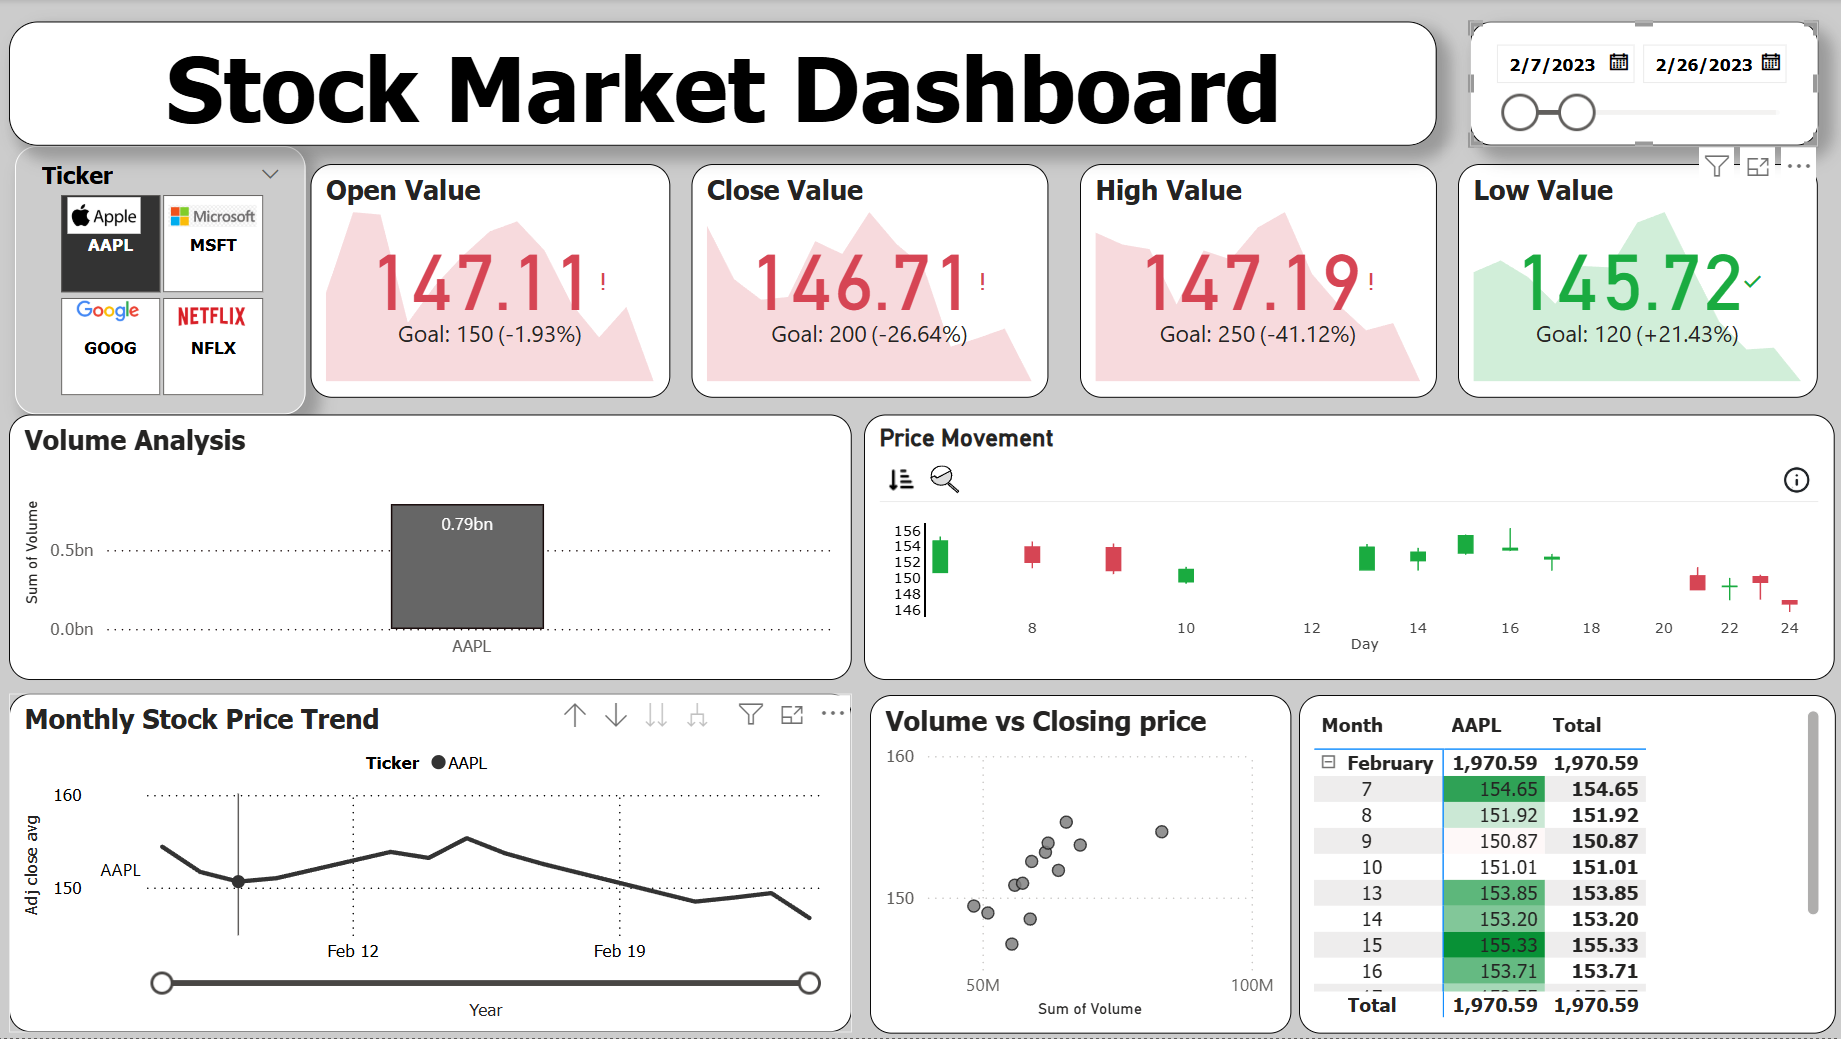

The page's visual inventory and layout, read from the dashboard file:
{"tool":"powerbi","page":{"name":"Page 1","canvas":[1280,720],"ordinal":0},"visuals":[{"type":"lineChart","title":"Monthly Stock Price Trend ","fields":{"Category":["stocks (1).Date.Variation.Date Hierarchy.Year","stocks (1).Date.Variation.Date Hierarchy.Month","stocks (1).Date.Variation.Date Hierarchy.Day"],"Series":["stocks (1).Ticker"],"Y":["Avg(stocks (1).Adj Close)"]},"box":[10.4,481.3,584.2,234.9],"z":0},{"type":"slicer","fields":{"Values":["stocks (1).Ticker"]},"box":[14.6,101.9,201.7,186.1],"z":1000},{"type":"candlestick95C27C147643B5E840B1D29AC39783F7","title":"Price Movement","fields":{"col_1":["Sum(stocks (1).Open)"],"col_2":["Sum(stocks (1).High)"],"col_3":["Sum(stocks (1).Low)"],"col_4":["Sum(stocks (1).Close)"],"col_0":["stocks (1).Date.Variation.Date Hierarchy.Day"]},"box":[602.9,287.9,672.5,184],"z":2000},{"type":"kpi","title":"Open Value","fields":{"TrendLine":["stocks (1).Date"],"Goal":["stocks (1).Target Value"],"Indicator":["Avg(stocks (1).Open)"]},"box":[219.3,114.3,249.5,162.2],"z":3000},{"type":"clusteredColumnChart","title":"Volume Analysis","fields":{"Category":["stocks (1).Ticker"],"Y":["Sum(stocks (1).Volume)"]},"box":[10.4,287.9,584.2,184],"z":4000},{"type":"slicer","fields":{"Values":["stocks (1).Date"]},"box":[1022.8,15.6,241.2,86.3],"z":5000},{"type":"kpi","title":"Close Value","fields":{"TrendLine":["stocks (1).Date"],"Goal":["stocks (1).Fixed Target Close"],"Indicator":["Avg(stocks (1).Close)"]},"box":[483.4,114.3,247.4,162.2],"z":6000},{"type":"kpi","title":"High Value","fields":{"TrendLine":["stocks (1).Date"],"Goal":["stocks (1).Fixed Target High"],"Indicator":["Avg(stocks (1).High)"]},"box":[752.6,114.3,247.4,162.2],"z":7000},{"type":"kpi","title":"Low Value","fields":{"TrendLine":["stocks (1).Date"],"Goal":["stocks (1).Fixed Target Low"],"Indicator":["Avg(stocks (1).Low)"]},"box":[1014.5,114.3,249.5,162.2],"z":8000},{"type":"image","box":[115.4,132,71.7,36.4],"z":9000},{"type":"image","box":[41.6,132,69.6,35.3],"z":10000},{"type":"image","box":[35.3,203.7,87.3,24.9],"z":11000},{"type":"image","box":[122.7,203.7,56.1,32.2],"z":12000},{"type":"textbox","title":"Stock Market Dashboard","box":[10.4,15.6,989.6,86.3],"z":13000},{"type":"scatterChart","title":"Volume vs Closing price","fields":{"X":["Sum(stocks (1).Volume)"],"Y":["stocks (1).Close"]},"box":[607.1,482.3,292.1,234.9],"z":13001},{"type":"pivotTable","fields":{"Values":["Sum(stocks (1).Close)"],"Columns":["stocks (1).Ticker"],"Rows":["stocks (1).Date.Variation.Date Hierarchy.Month","stocks (1).Date.Variation.Date Hierarchy.Day"]},"box":[904.3,482.3,372.1,234.9],"z":13002}]}

Visuals, with their boxes in screenshot pixels (x1, y1, x2, y2), scaled from the page's 1280x720 canvas onto the 1841x1039 screenshot:
"Monthly Stock Price Trend " lineChart: box(15, 695, 855, 1034)
slicer - stocks (1).Ticker: box(21, 147, 311, 416)
"Price Movement" candlestick95C27C147643B5E840B1D29AC39783F7: box(867, 415, 1834, 681)
"Open Value" kpi: box(315, 165, 674, 399)
"Volume Analysis" clusteredColumnChart: box(15, 415, 855, 681)
slicer - stocks (1).Date: box(1471, 23, 1818, 147)
"Close Value" kpi: box(695, 165, 1051, 399)
"High Value" kpi: box(1082, 165, 1438, 399)
"Low Value" kpi: box(1459, 165, 1818, 399)
image: box(166, 190, 269, 243)
image: box(60, 190, 160, 241)
image: box(51, 294, 176, 330)
image: box(176, 294, 257, 340)
"Stock Market Dashboard" textbox: box(15, 23, 1438, 147)
"Volume vs Closing price" scatterChart: box(873, 696, 1293, 1035)
pivotTable - Sum(stocks (1).Close) x stocks (1).Ticker: box(1301, 696, 1836, 1035)
